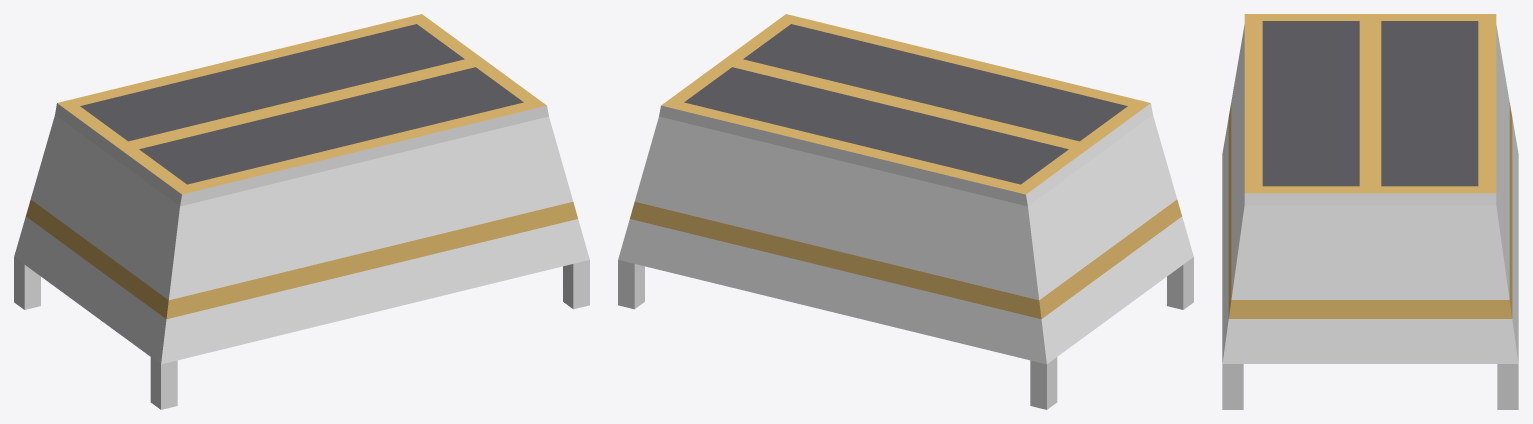
File: Table_Level_03.fbx
3 renders of one model, left to right at view 1: azimuth 30°, elevation 25°; view 2: azimuth 150°, elevation 25°; view 3: azimuth 270°, elevation 25°, orthographic.
Parts seen in each view (by area): view 1: Table_Level_03; view 2: Table_Level_03; view 3: Table_Level_03.
Boxes of the visible parts, box(x1,y1,x2,y2) form: Table_Level_03: box(14, 14, 589, 409); Table_Level_03: box(618, 14, 1193, 409); Table_Level_03: box(1222, 14, 1518, 409).
Size of the model in its own units: 486 by 216 by 289.
